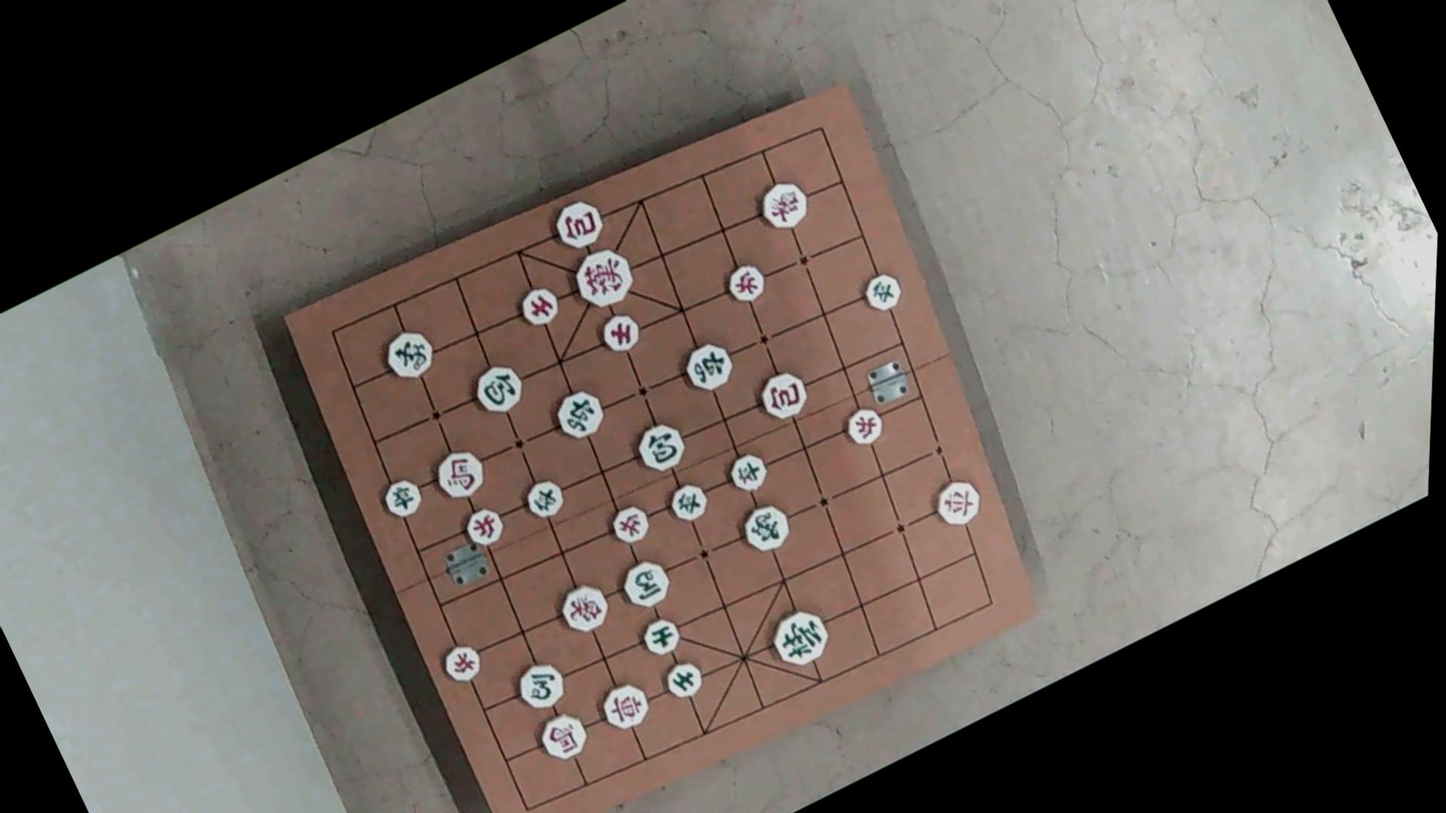cha_green: (546, 384, 609, 444), (675, 336, 738, 396)
cha_red: (927, 474, 987, 531), (596, 678, 656, 735)
jol_green: (518, 473, 569, 521), (377, 474, 427, 522), (663, 479, 712, 526), (856, 268, 904, 315), (725, 448, 773, 494)
jol_red: (717, 257, 768, 306), (459, 503, 508, 551), (437, 639, 485, 687), (838, 402, 887, 449), (609, 500, 656, 546)
ma_green: (510, 655, 571, 714), (616, 555, 676, 613)
ma_red: (427, 444, 490, 504), (531, 708, 592, 766)
po_green: (466, 360, 529, 420), (630, 419, 691, 478)
po_red: (752, 364, 814, 423), (545, 195, 606, 254)
sa_green: (659, 656, 709, 704), (637, 611, 686, 658)
sa_red: (515, 282, 565, 329), (596, 309, 645, 356)
sang_green: (734, 497, 797, 557), (380, 324, 442, 384)
sang_red: (752, 174, 815, 234), (552, 577, 613, 637)
wang_green: (765, 602, 837, 672)
wang_red: (563, 239, 640, 314)
